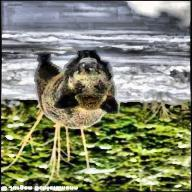boar: (28, 45, 118, 141)
